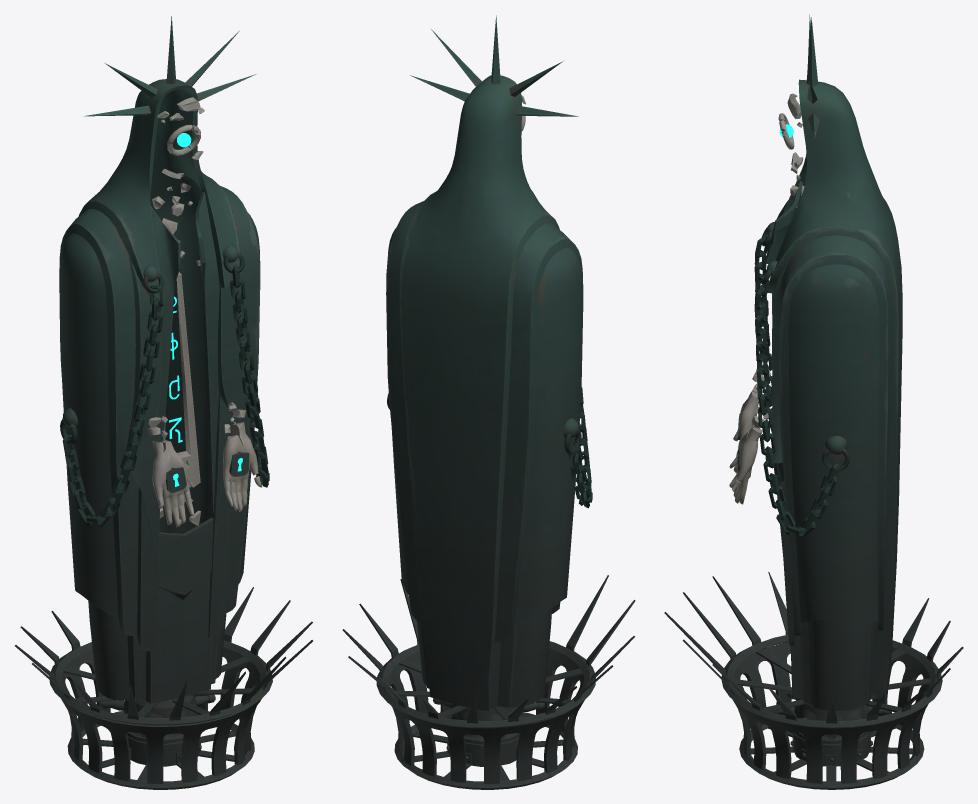
File: Sapphire_Base_Guardian.glb
The picture shows the model from 3 angles, left to right: view 1: azimuth 30°, elevation 25°; view 2: azimuth 150°, elevation 25°; view 3: azimuth 270°, elevation 25°; orthographic projection.
Visible parts, largest first — view 1: models\props_endgame\t3_watcher\t3_watcher_sapphire.vmdl_c.m; view 2: models\props_endgame\t3_watcher\t3_watcher_sapphire.vmdl_c.m; view 3: models\props_endgame\t3_watcher\t3_watcher_sapphire.vmdl_c.m.
Boxes of the visible parts, bbox=[...] form: models\props_endgame\t3_watcher\t3_watcher_sapphire.vmdl_c.m: bbox=[15, 16, 312, 789]; models\props_endgame\t3_watcher\t3_watcher_sapphire.vmdl_c.m: bbox=[342, 15, 635, 789]; models\props_endgame\t3_watcher\t3_watcher_sapphire.vmdl_c.m: bbox=[664, 14, 963, 789].
Size of the model in its own units: 4.51 by 12.41 by 4.58.
Materials: 2 (1 with a texture image).
